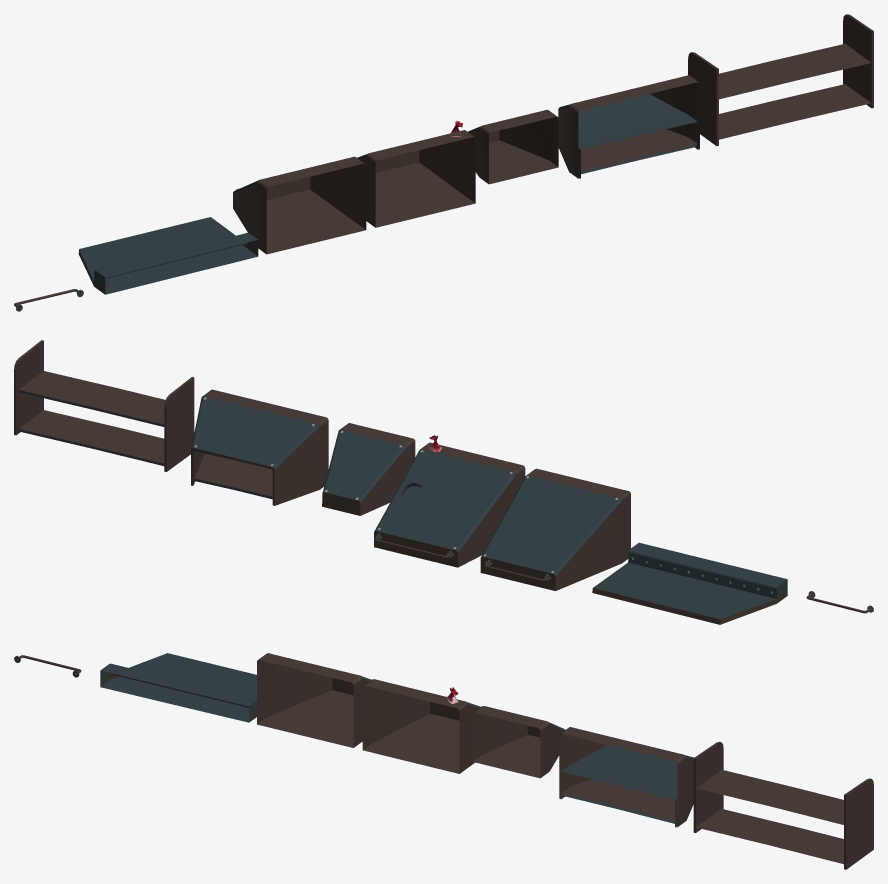
File: Tables.FBX
3 renders of one model, top to bottom at view 1: azimuth 30°, elevation 25°; view 2: azimuth 150°, elevation 25°; view 3: azimuth 330°, elevation 25°, orthographic. The views are drawn at different scales.
Visible parts, largest first — view 1: Table_Shelf, Table_WithDesk, Table_Radar, Table_Movement, Table_Desk, Table_Small; view 2: Table_Radar, Table_Movement, Table_WithDesk, Table_Shelf, Table_Desk, Table_Small; view 3: Table_Shelf, Table_WithDesk, Table_Movement, Table_Radar, Table_Desk, Table_Small.
Boxes of the visible parts, <box> form: Table_Shelf: <box>688,14,873,146</box>; Table_WithDesk: <box>558,75,699,178</box>; Table_Radar: <box>233,156,366,254</box>; Table_Movement: <box>357,130,475,227</box>; Table_Desk: <box>78,217,258,294</box>; Table_Small: <box>468,109,558,184</box>; Table_Radar: <box>480,468,630,590</box>; Table_Movement: <box>374,442,525,567</box>; Table_WithDesk: <box>191,389,328,505</box>; Table_Shelf: <box>14,340,194,471</box>; Table_Desk: <box>592,542,787,624</box>; Table_Small: <box>322,423,415,515</box>; Table_Shelf: <box>693,741,873,869</box>; Table_WithDesk: <box>559,727,693,827</box>; Table_Movement: <box>362,679,480,773</box>; Table_Radar: <box>257,653,371,747</box>; Table_Desk: <box>100,653,256,722</box>; Table_Small: <box>472,706,564,778</box>.
Size of the model in its own units: 367 by 34.61 by 45.91.
